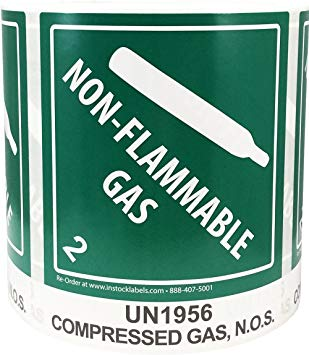NonFlammableGas: (40, 12, 286, 302)
